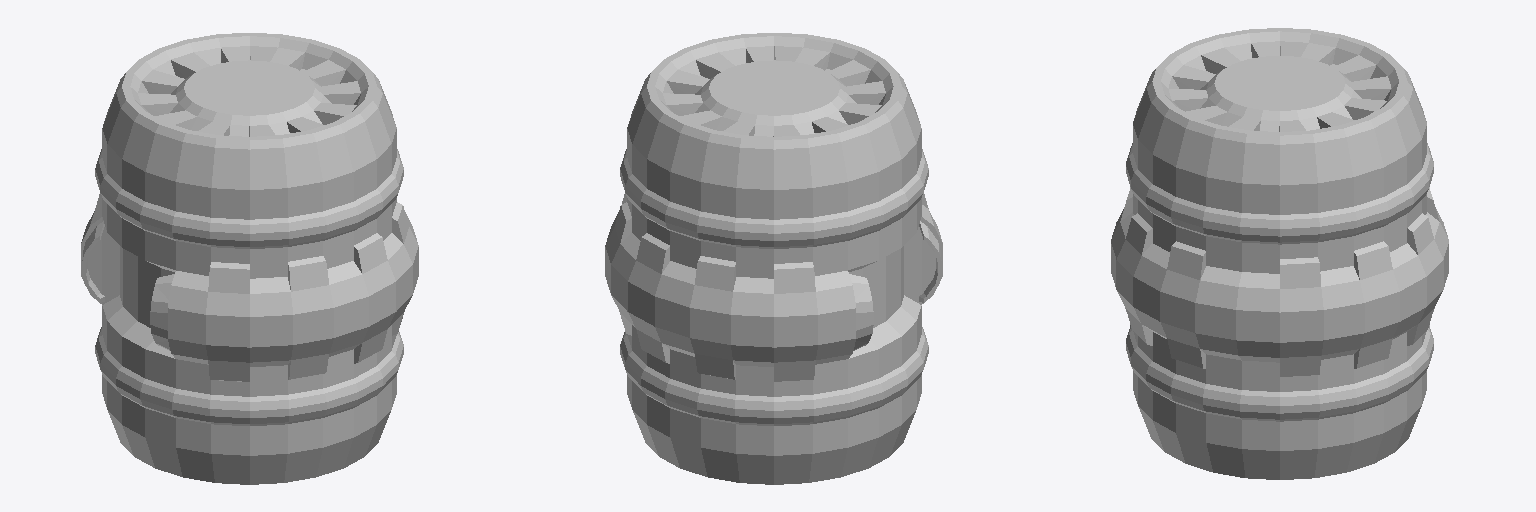
File: HazardBarrel_01.obj
The picture shows the model from 3 angles: view 1: azimuth 30°, elevation 25°; view 2: azimuth 150°, elevation 25°; view 3: azimuth 270°, elevation 25°; orthographic projection.
Parts seen in each view (by area): view 1: RadioactiveBarrel_01_Mesh.031; view 2: RadioactiveBarrel_01_Mesh.031; view 3: RadioactiveBarrel_01_Mesh.031.
Part boxes in pixels (x1,y1,x2,y2): RadioactiveBarrel_01_Mesh.031: (81, 33, 418, 484); RadioactiveBarrel_01_Mesh.031: (605, 33, 942, 484); RadioactiveBarrel_01_Mesh.031: (1111, 28, 1448, 479).
Bounding box in the file's own units: 1.45 × 1.69 × 1.51.